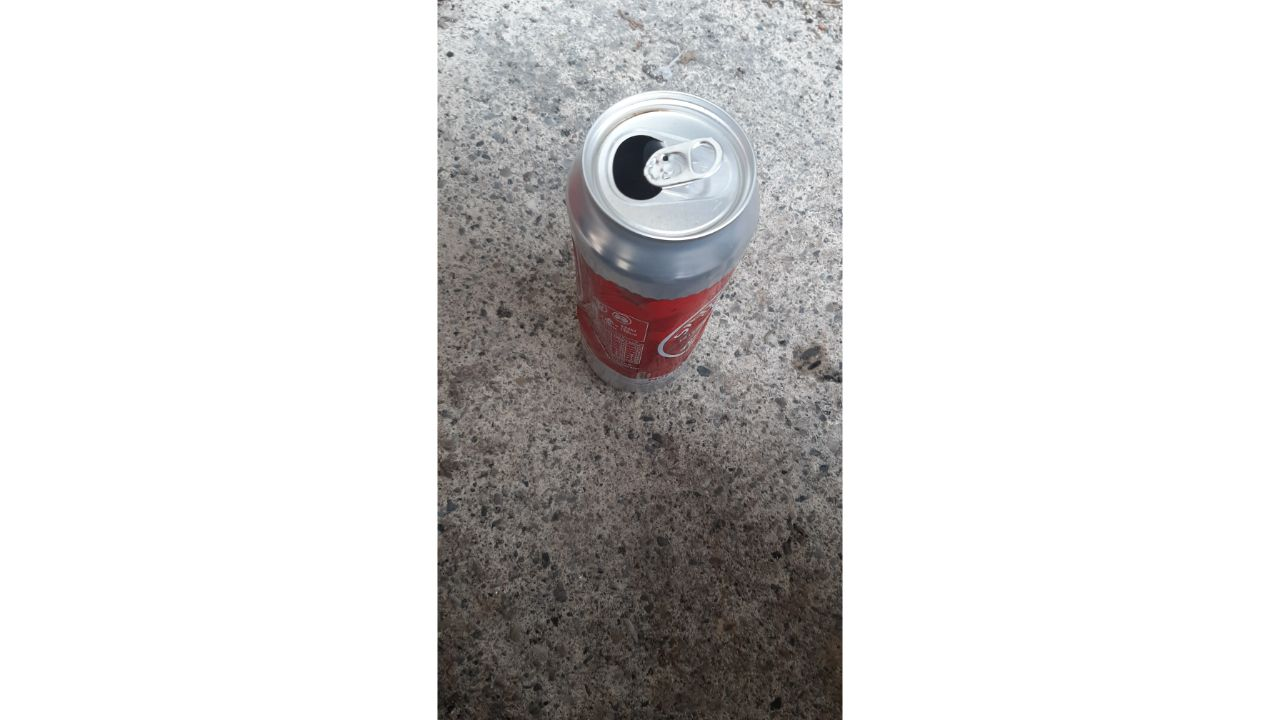Can: (548, 78, 769, 416)
